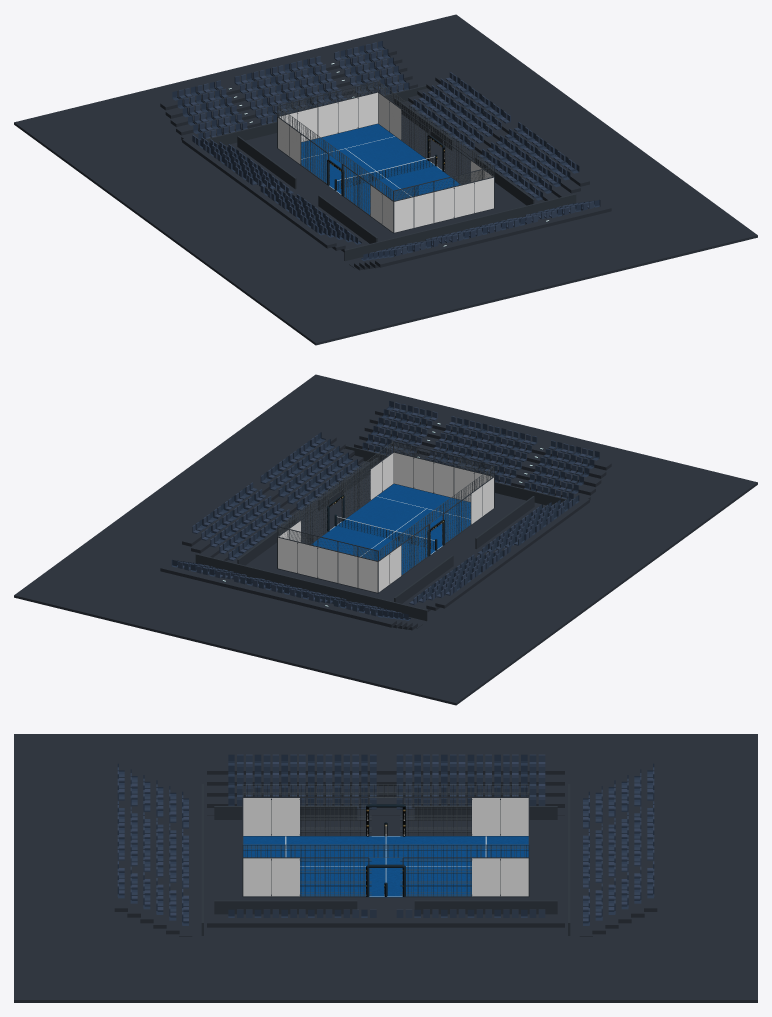
The model's file is arena-v2.glb.
3 views of the same model, one above another, from view 1: azimuth 30°, elevation 25°; view 2: azimuth 150°, elevation 25°; view 3: azimuth 270°, elevation 25° (orthographic). The views are drawn at different scales.
Visible parts, largest first — view 1: Arena flush run-off.001, Arena individual seats.001, 10 x 20 court.001, Court wire mesh enclosure.001, Arena end barrier.002, Arena end terrace.017, Arena side terrace.014, Arena end barrier.003, Arena end terrace.021, Arena end terrace.022, Arena end terrace.023, Arena end terrace.020 (+18 smaller); view 2: Arena flush run-off.001, Arena individual seats.001, 10 x 20 court.001, Court wire mesh enclosure.001, Arena end barrier.003, Arena end terrace.023, Arena side terrace.014, Arena end barrier.002, Arena end terrace.015, Arena end terrace.016, Arena end terrace.017, Arena end terrace.014 (+18 smaller); view 3: Arena flush run-off.001, Arena individual seats.001, 10 x 20 court.001, Court wire mesh enclosure.001, Arena side terrace.019, Arena side barrier.006, Arena side barrier.007, Arena side terrace.014, Arena side terrace.013, Arena side terrace.012, Arena end terrace.013, Arena end terrace.019 (+22 smaller).
Part boxes in pixels (bbox=[...]): Arena flush run-off.001: bbox=[14, 14, 757, 345]; Arena individual seats.001: bbox=[172, 41, 600, 260]; 10 x 20 court.001: bbox=[301, 124, 460, 214]; Court wire mesh enclosure.001: bbox=[278, 81, 493, 214]; Arena end barrier.002: bbox=[344, 193, 576, 261]; Arena end terrace.017: bbox=[375, 204, 611, 267]; Arena side terrace.014: bbox=[182, 137, 336, 248]; Arena end barrier.003: bbox=[204, 85, 427, 145]; Arena end terrace.021: bbox=[170, 63, 407, 127]; Arena end terrace.022: bbox=[165, 55, 402, 118]; Arena end terrace.023: bbox=[160, 47, 396, 110]; Arena end terrace.020: bbox=[176, 72, 412, 135]; Arena flush run-off.001: bbox=[14, 374, 757, 705]; Arena individual seats.001: bbox=[171, 401, 599, 620]; 10 x 20 court.001: bbox=[311, 484, 470, 574]; Court wire mesh enclosure.001: bbox=[278, 441, 493, 574]; Arena end barrier.003: bbox=[195, 553, 427, 621]; Arena end terrace.023: bbox=[160, 564, 396, 627]; Arena side terrace.014: bbox=[435, 497, 589, 608]; Arena end barrier.002: bbox=[344, 445, 566, 505]; Arena end terrace.015: bbox=[364, 423, 601, 487]; Arena end terrace.016: bbox=[369, 415, 606, 478]; Arena end terrace.017: bbox=[375, 407, 611, 470]; Arena end terrace.014: bbox=[359, 432, 595, 495]; Arena flush run-off.001: bbox=[14, 734, 757, 1002]; Arena individual seats.001: bbox=[117, 754, 654, 925]; 10 x 20 court.001: bbox=[243, 836, 528, 897]; Court wire mesh enclosure.001: bbox=[243, 784, 528, 895]; Arena side terrace.019: bbox=[207, 917, 564, 927]; Arena side barrier.006: bbox=[214, 900, 357, 914]; Arena side barrier.007: bbox=[414, 900, 557, 914]; Arena side terrace.014: bbox=[207, 765, 564, 774]; Arena side terrace.013: bbox=[207, 776, 564, 785]; Arena side terrace.012: bbox=[207, 787, 564, 796]; Arena end terrace.013: bbox=[166, 791, 179, 934]; Arena end terrace.019: bbox=[592, 791, 605, 934].
Size of the model in its own units: 44 by 4.33 by 52.
Materials: 15 (3 with a texture image).
